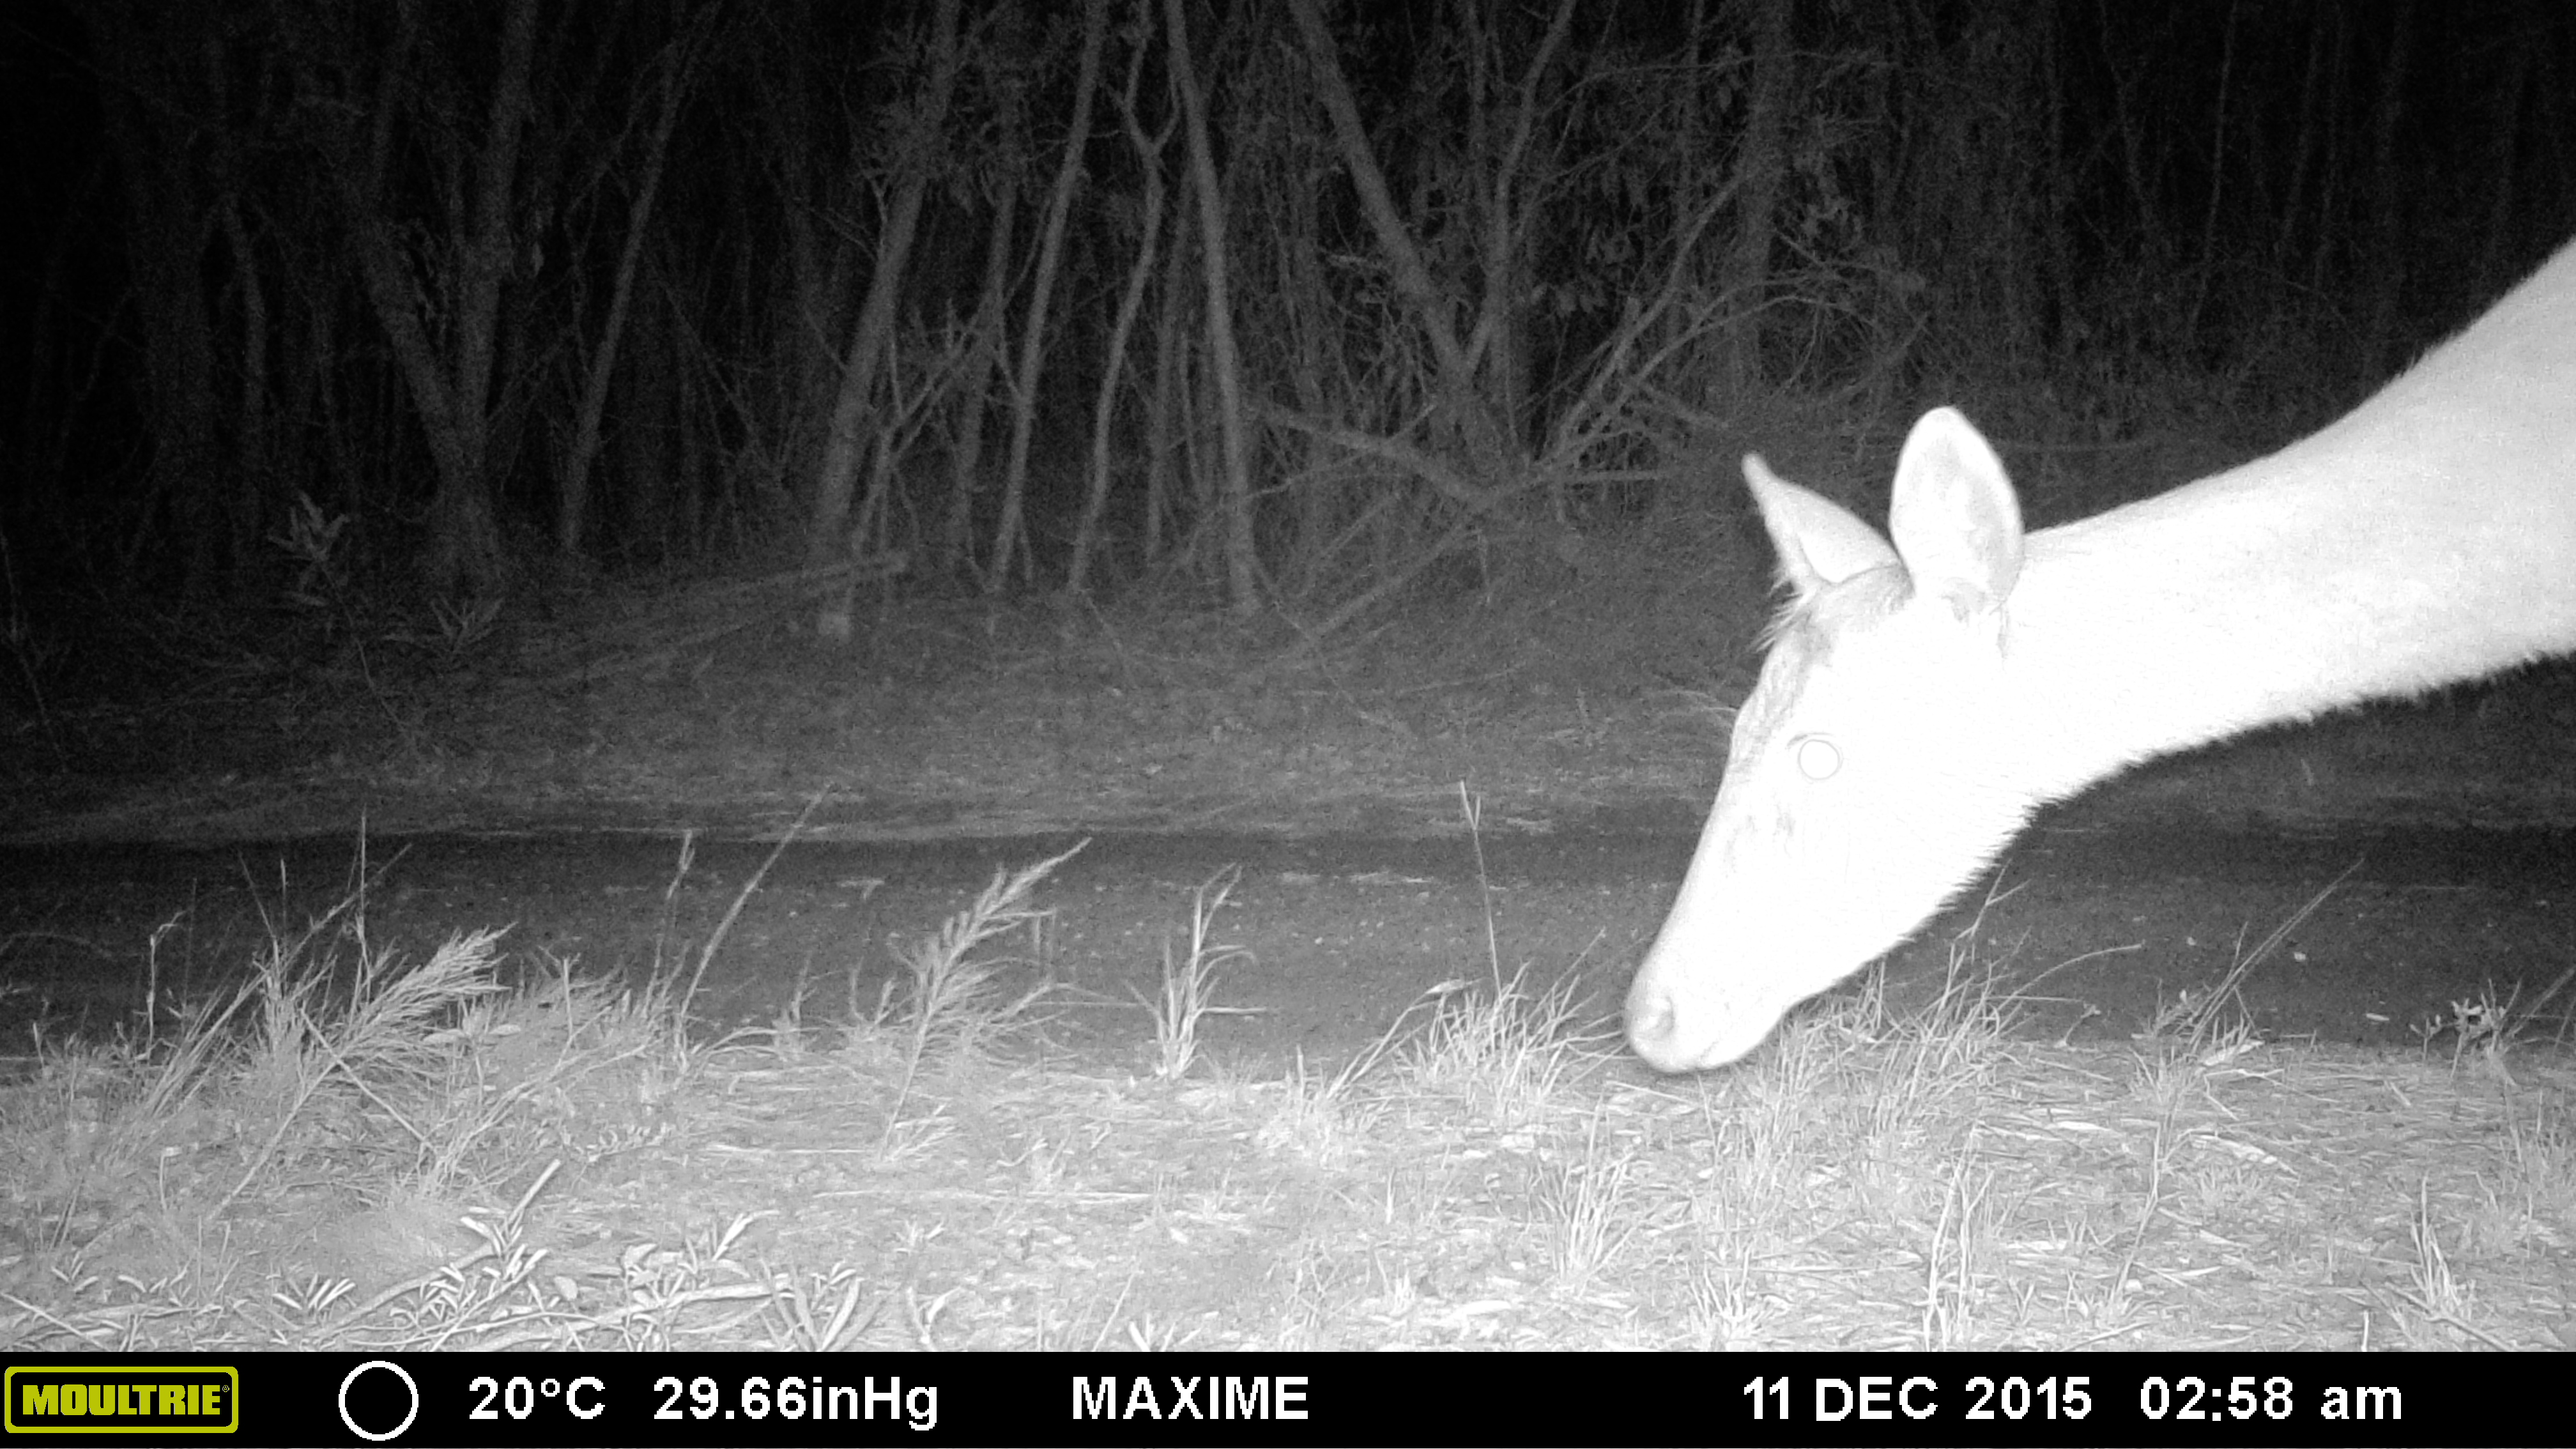Deer: (1628, 211, 2571, 1099)
